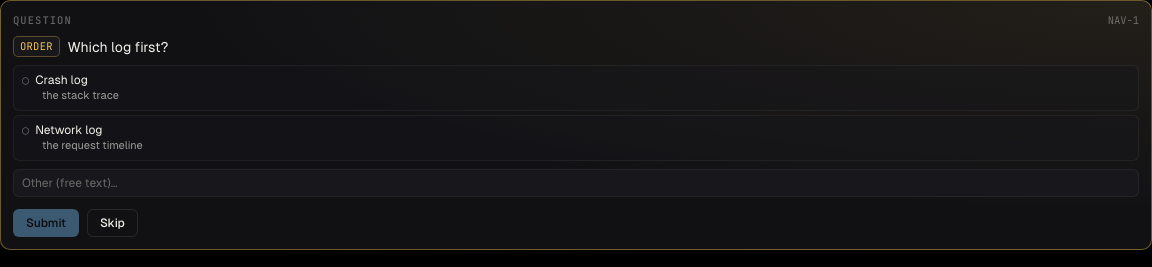
it: QuestionCard › Submit is disabled until every question is answered
The image size is (1152, 267).
Expected: the button "Submit" is disabled, 13,209 -> 79,237
Click the text "Crash log" at (55, 80), box 22,72 -> 88,88
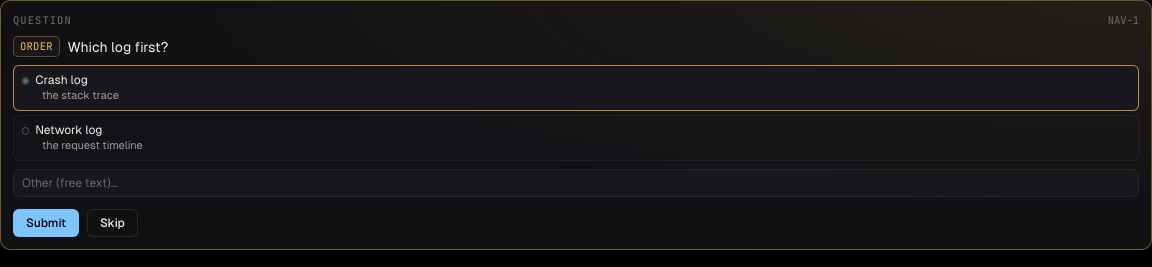
Now the button "Submit" is enabled, box 13,209 -> 79,237
